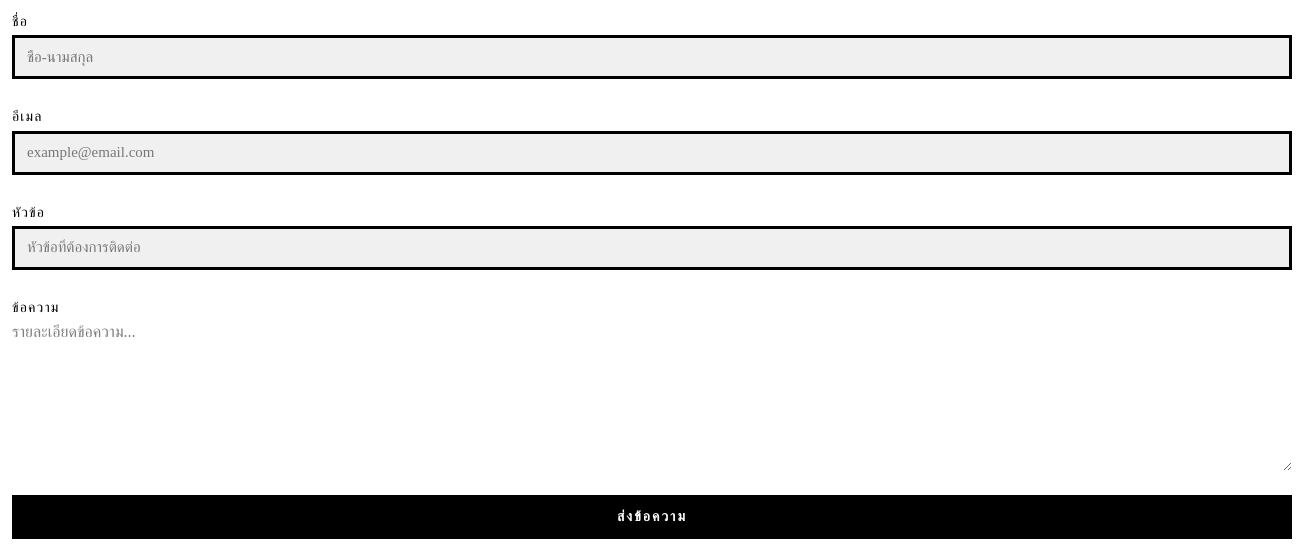
Test case: ContactForm › submits form successfully and shows success message
This screenshot has width=1304, height=556.
Step 1. Type "John Doe" into the field with placeholder "ชื่อ-นามสกุล" → [652, 57], box x1=12 y1=35 x2=1292 y2=79
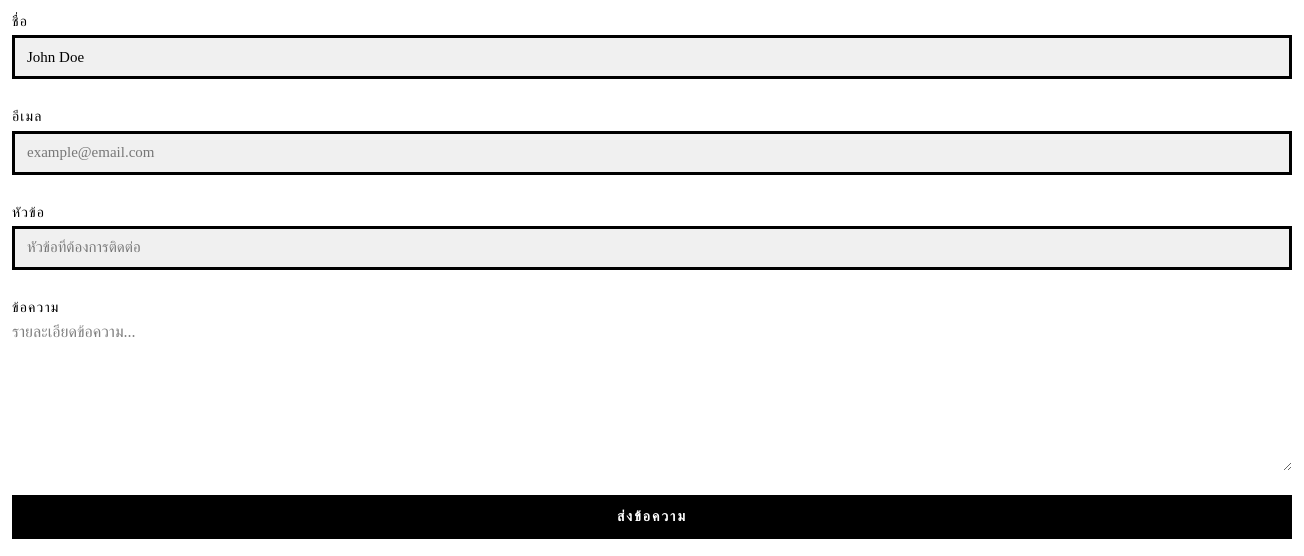
Step 2. Type "john@example.com" into the field with placeholder "example@email.com" → [652, 152], box x1=12 y1=130 x2=1292 y2=174
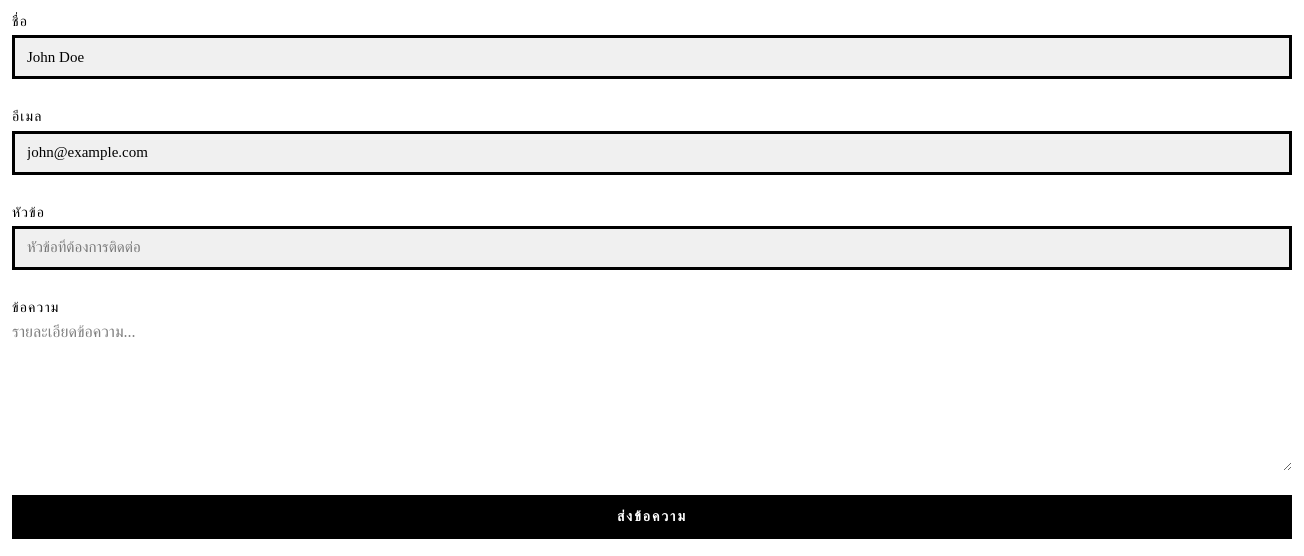
Step 3. Type "Hello" into the field with placeholder "หัวข้อที่ต้องการติดต่อ" → [652, 248], box x1=12 y1=226 x2=1292 y2=270
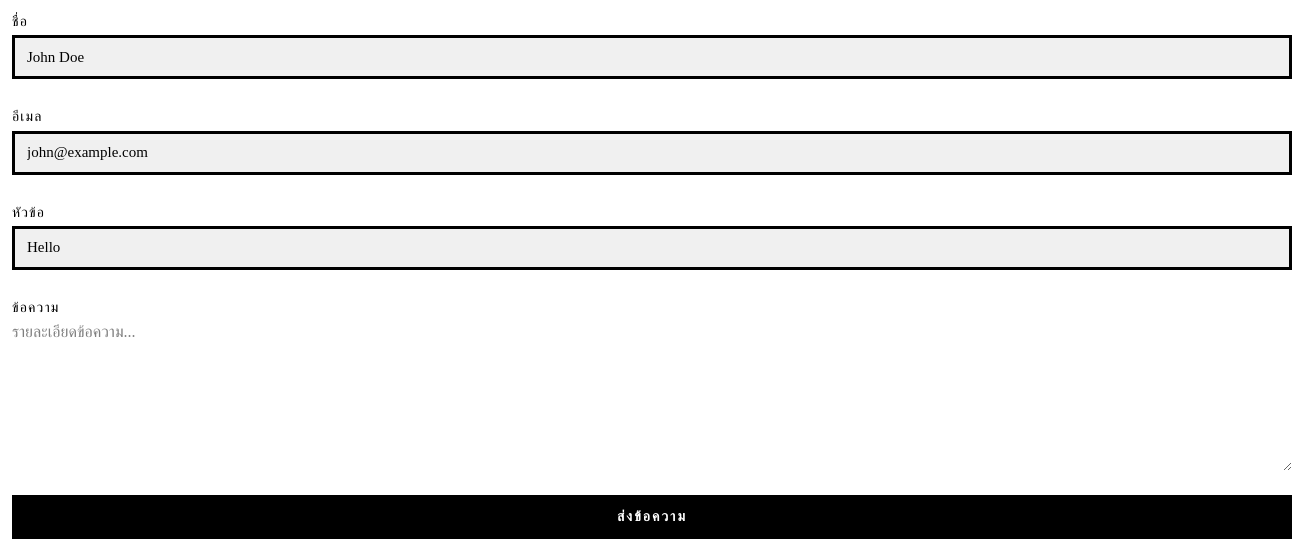
Step 4. Type "This is a test message long enough" into the text box with placeholder "รายละเอียดข้อความ..." → [652, 396], box x1=12 y1=321 x2=1292 y2=471
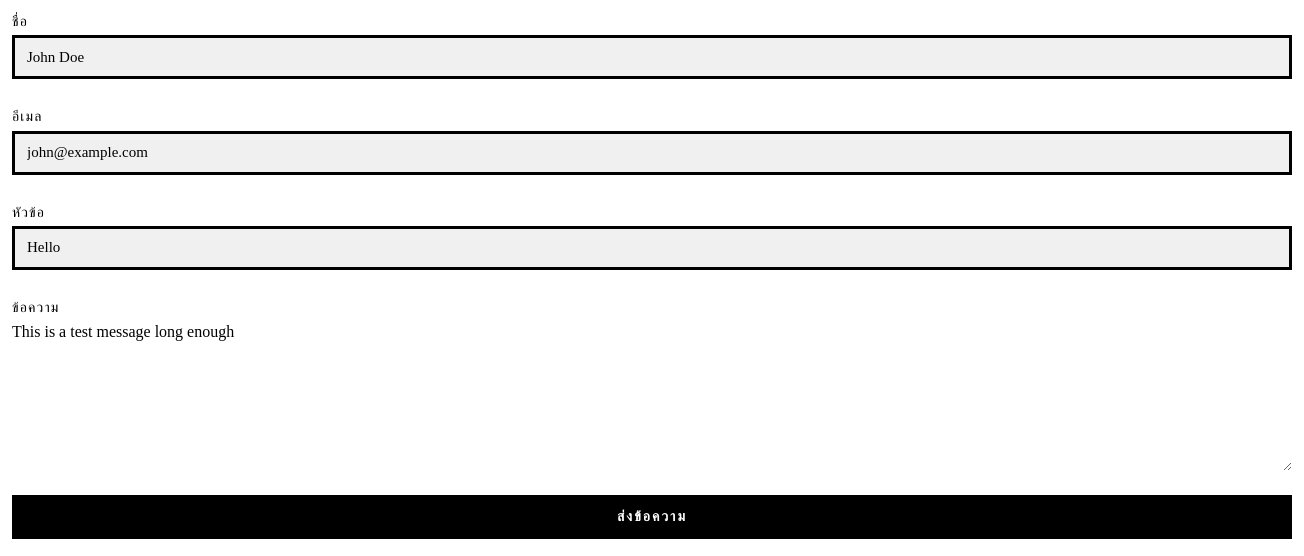
Step 5. Click the button "ส่งข้อความ" → [652, 517], box x1=12 y1=495 x2=1292 y2=539
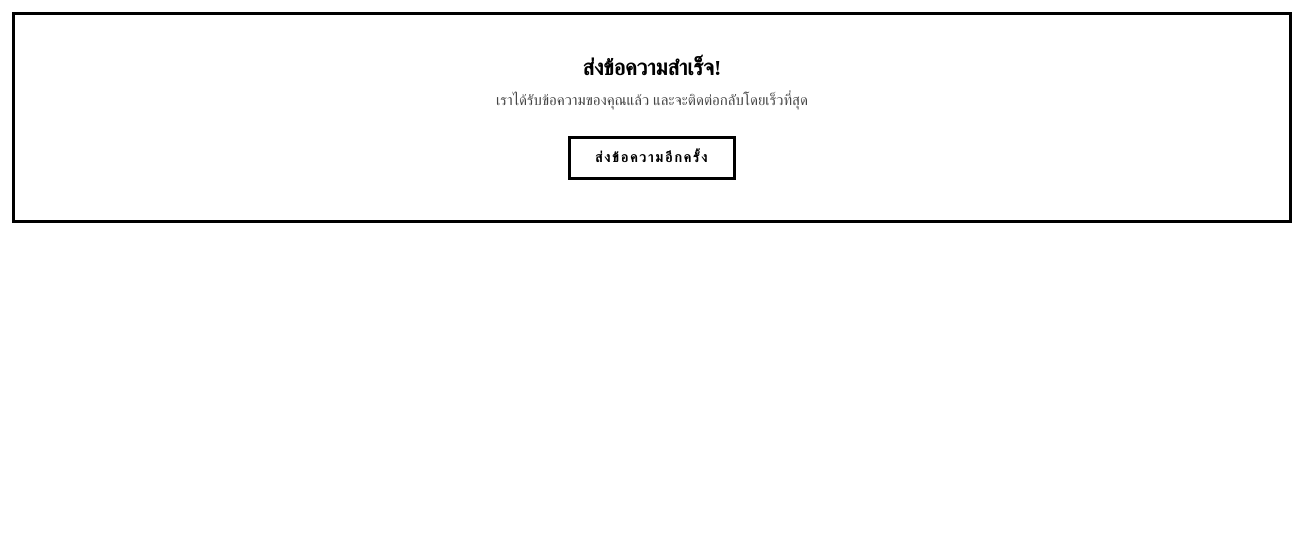
Check: the heading "ส่งข้อความสำเร็จ!" is shown, box x1=583 y1=55 x2=721 y2=80
Check: the text "เราได้รับข้อความของคุณแล้ว และจะติดต่อกลับโดยเร็วที่สุด" is shown, box x1=496 y1=92 x2=808 y2=108
